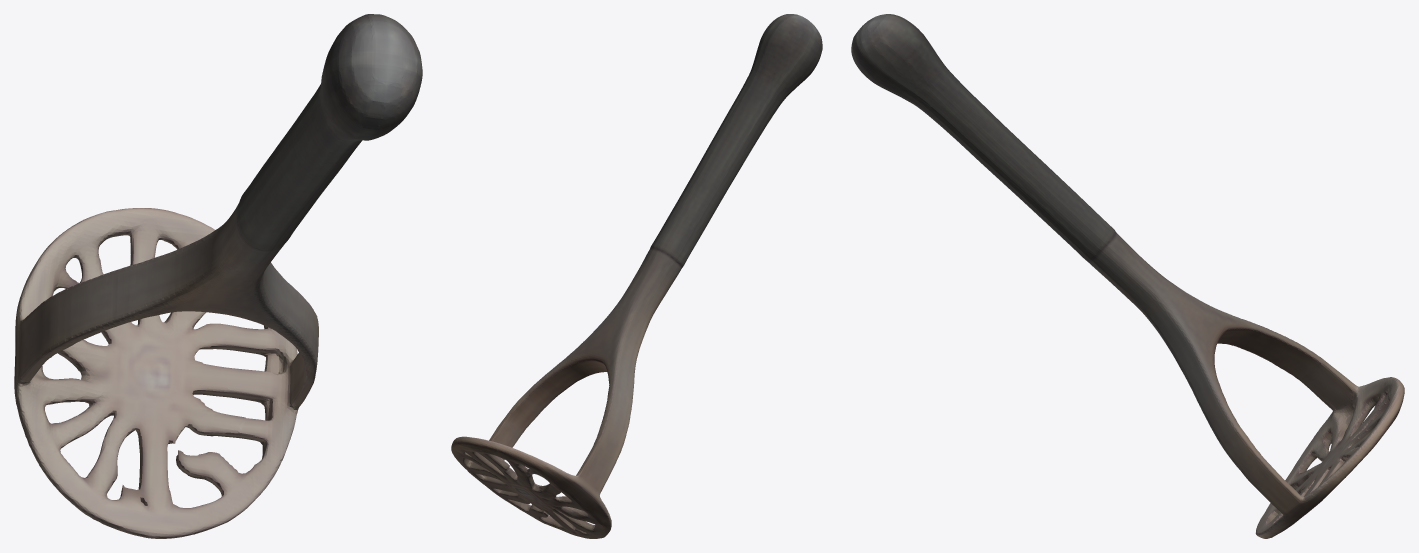
Rendered from frame_0030_source_000030_object.glb.
The picture shows the model from 3 angles, left to right: view 1: azimuth 30°, elevation 25°; view 2: azimuth 150°, elevation 25°; view 3: azimuth 270°, elevation 25°; orthographic projection. The views are drawn at different scales.
Visible parts, largest first — view 1: world; view 2: world; view 3: world.
Part boxes in pixels (bbox=[...]): world: bbox=[14, 14, 422, 538]; world: bbox=[451, 14, 822, 538]; world: bbox=[851, 14, 1404, 538].
Size of the model in its own units: 0.086 by 0.2049 by 0.2143.
